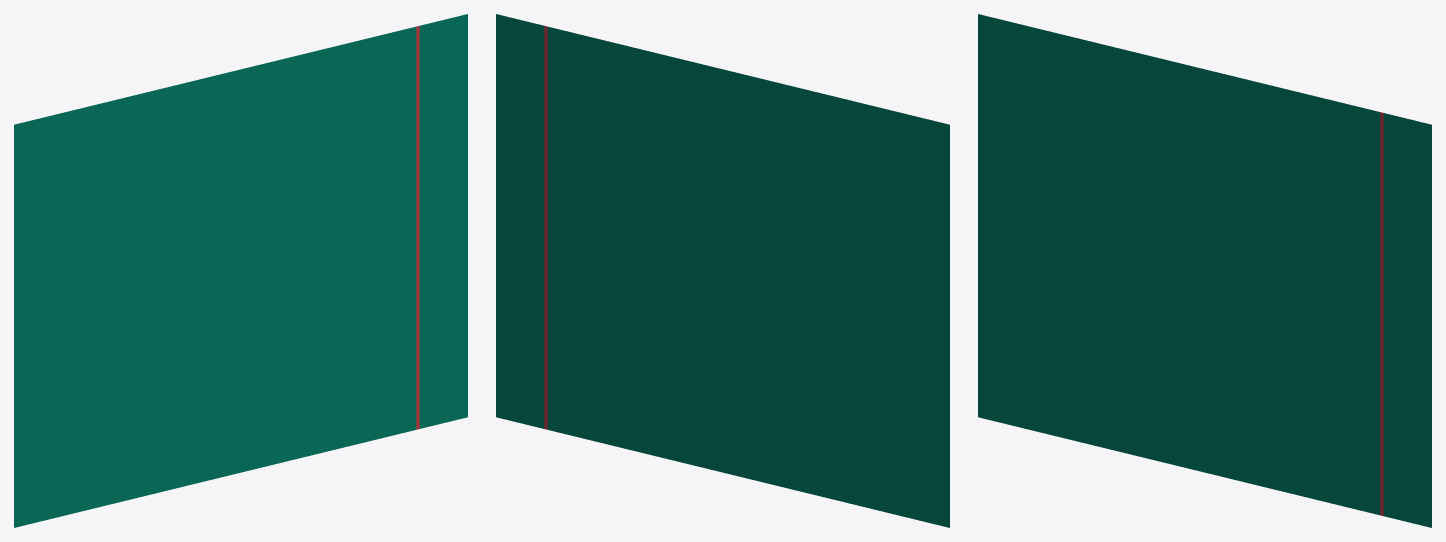
Rendered from doorW.fbx.
3 views of the same model, side by side, from view 1: azimuth 30°, elevation 25°; view 2: azimuth 150°, elevation 25°; view 3: azimuth 330°, elevation 25° (orthographic).
Visible parts, largest first — view 1: doorW; view 2: doorW; view 3: doorW.
Part boxes in pixels (<box>): doorW: <box>14,14,467,527</box>; doorW: <box>496,14,949,527</box>; doorW: <box>978,14,1431,527</box>.
Bounding box in the file's own units: 190 × 161 × 2.63e-05.
